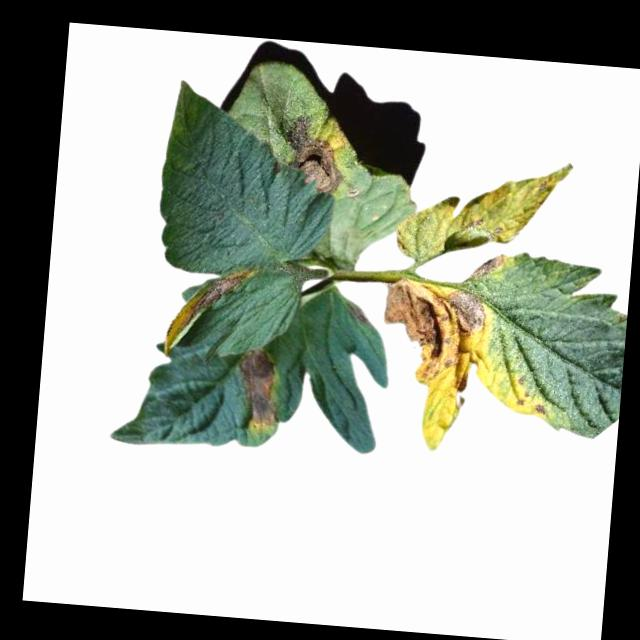Early_blight: (376, 280, 496, 403), (164, 263, 254, 359), (273, 114, 352, 197), (232, 346, 286, 435), (473, 251, 506, 283), (535, 405, 550, 416)
